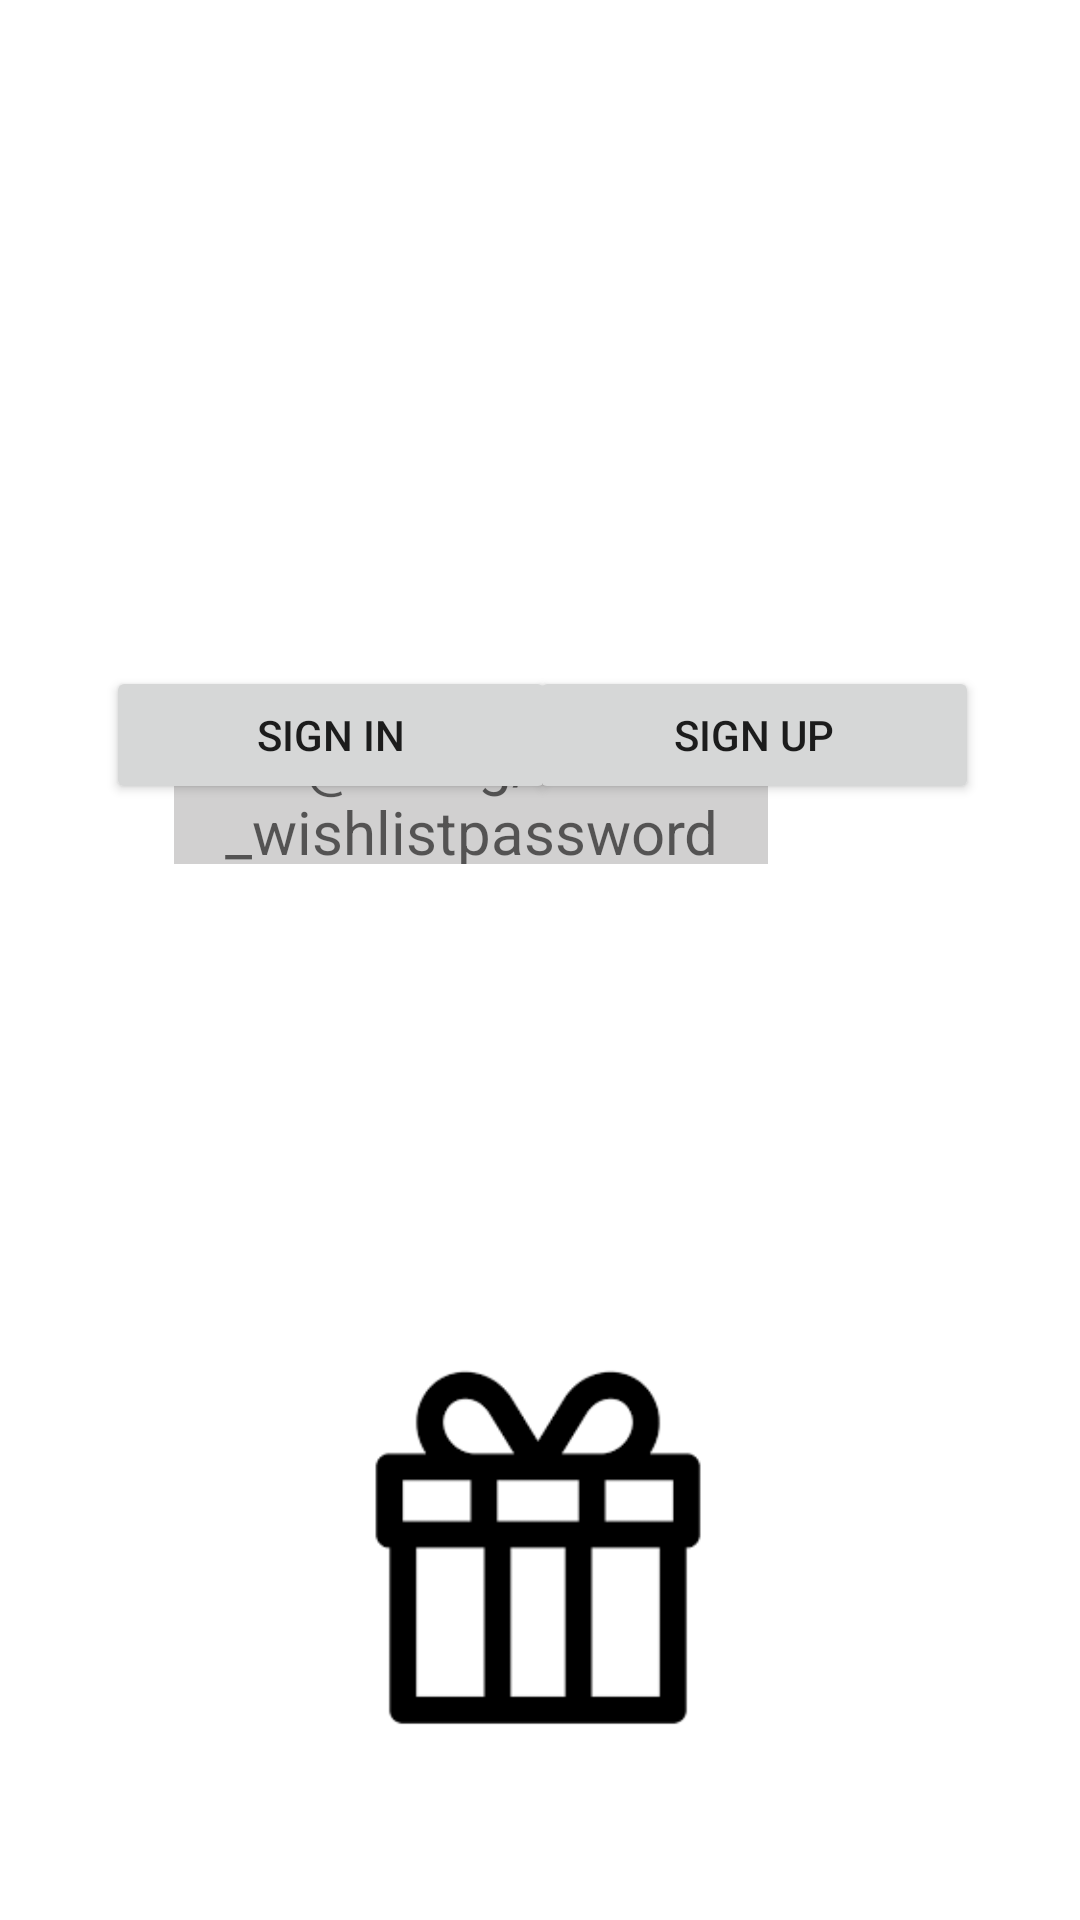

Screen size 1080x1920. Icon name, then its center in pixels as [x,y]:
presenticon: [538,1547]
